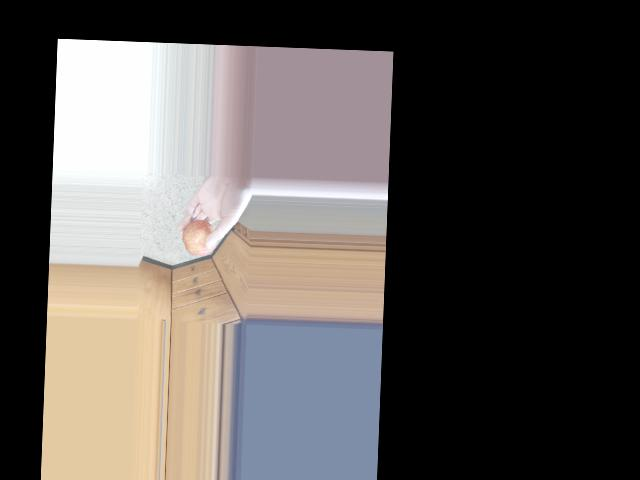apple: (179, 212, 222, 261)
